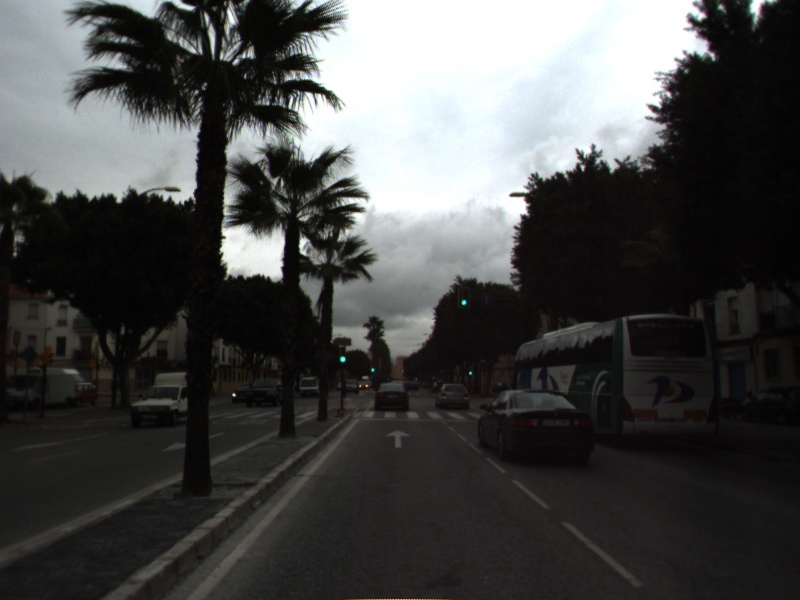STRAIGHT: (383, 427, 414, 451)
